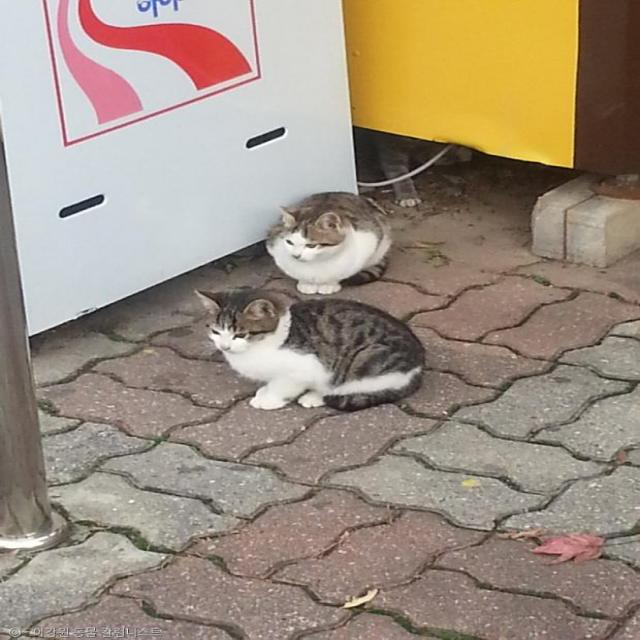cat: (172, 282, 444, 432), (263, 185, 392, 297)
